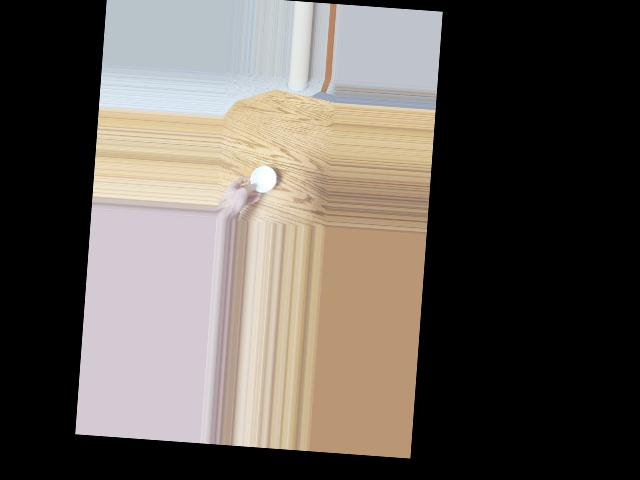cotage: (249, 164, 278, 194)
